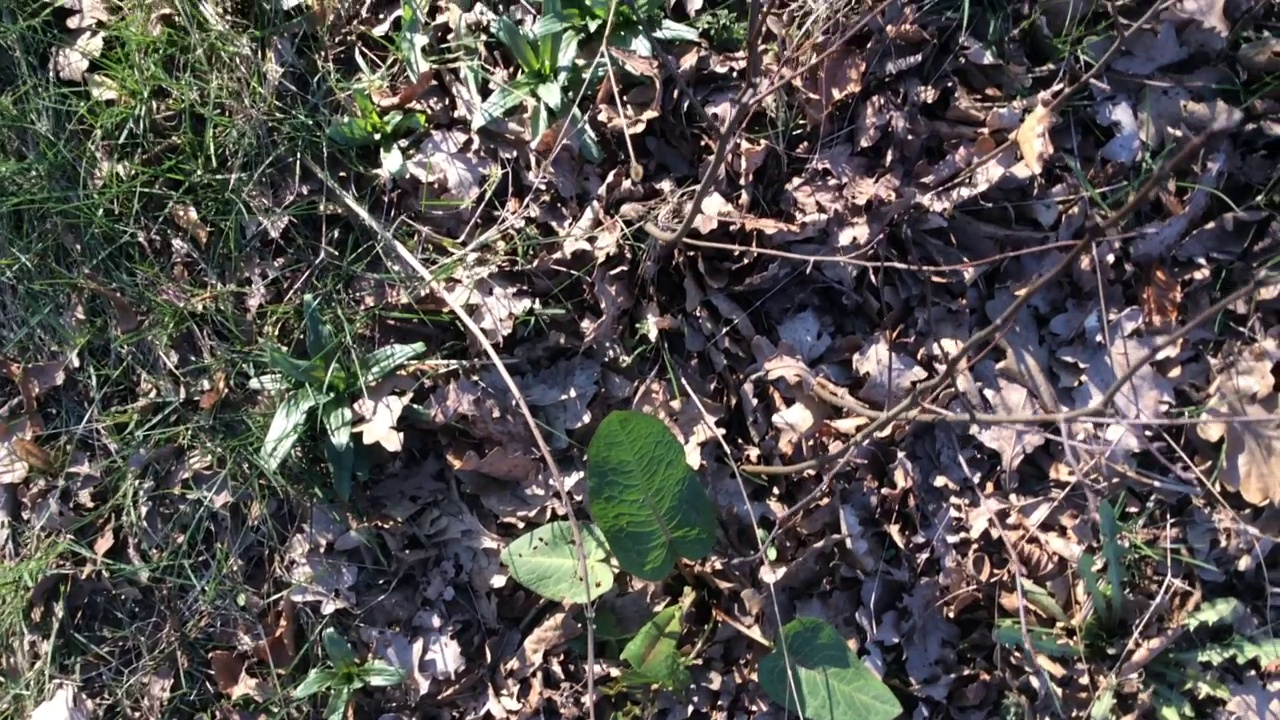rumex: (498, 410, 903, 719)
